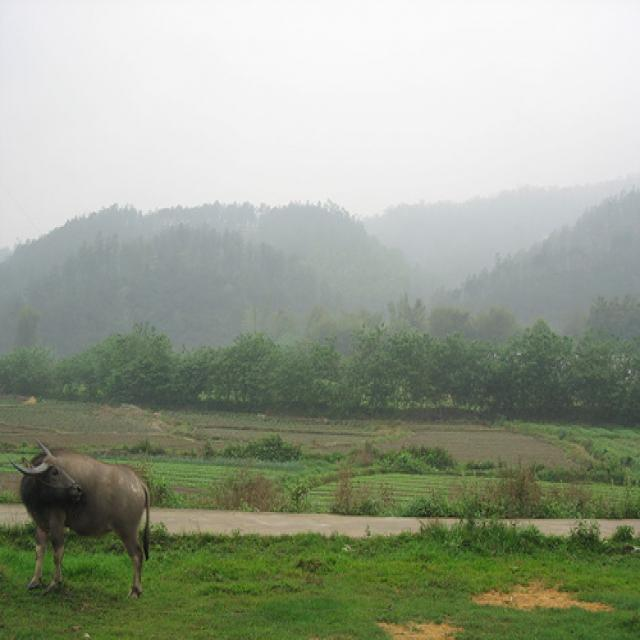cow: (8, 435, 150, 596)
